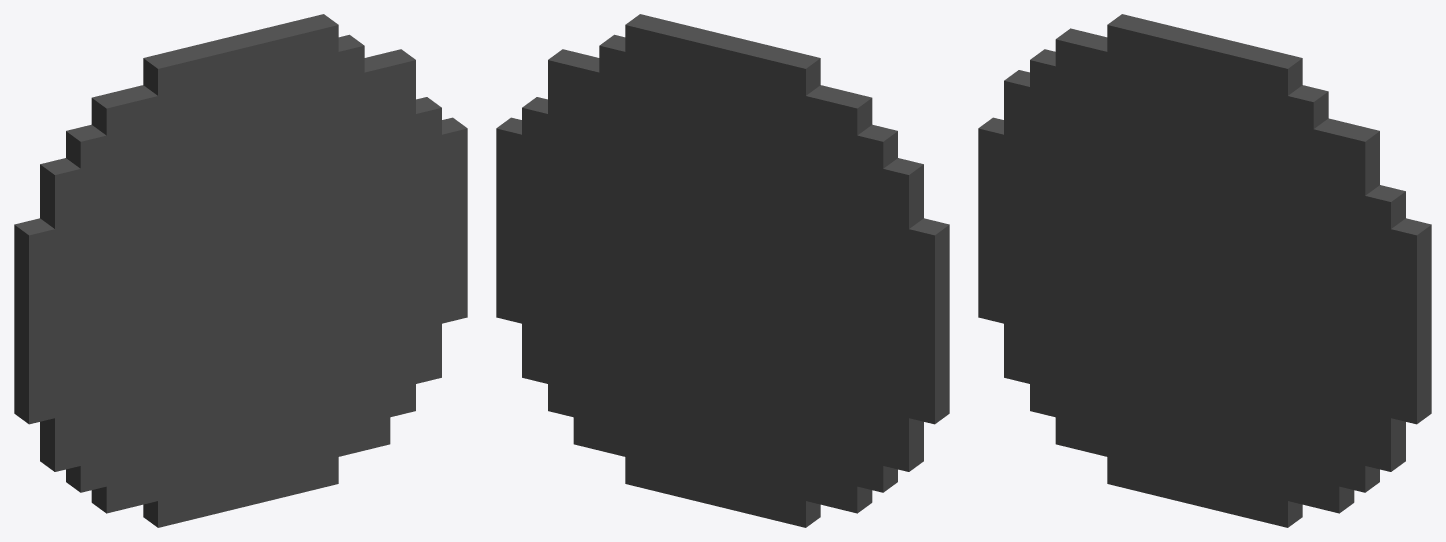
File: energy-placeholder.obj
3 renders of one model, left to right at view 1: azimuth 30°, elevation 25°; view 2: azimuth 150°, elevation 25°; view 3: azimuth 330°, elevation 25°, orthographic.
Bounding box in the file's own units: 1.7 × 1.7 × 0.1.
1 material, 1 textured.
